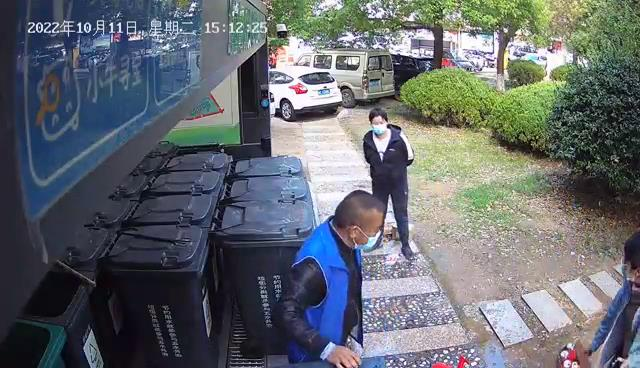person: (361, 107, 416, 261)
worker: (270, 188, 387, 368)
zhizhipin: (557, 336, 590, 368)
